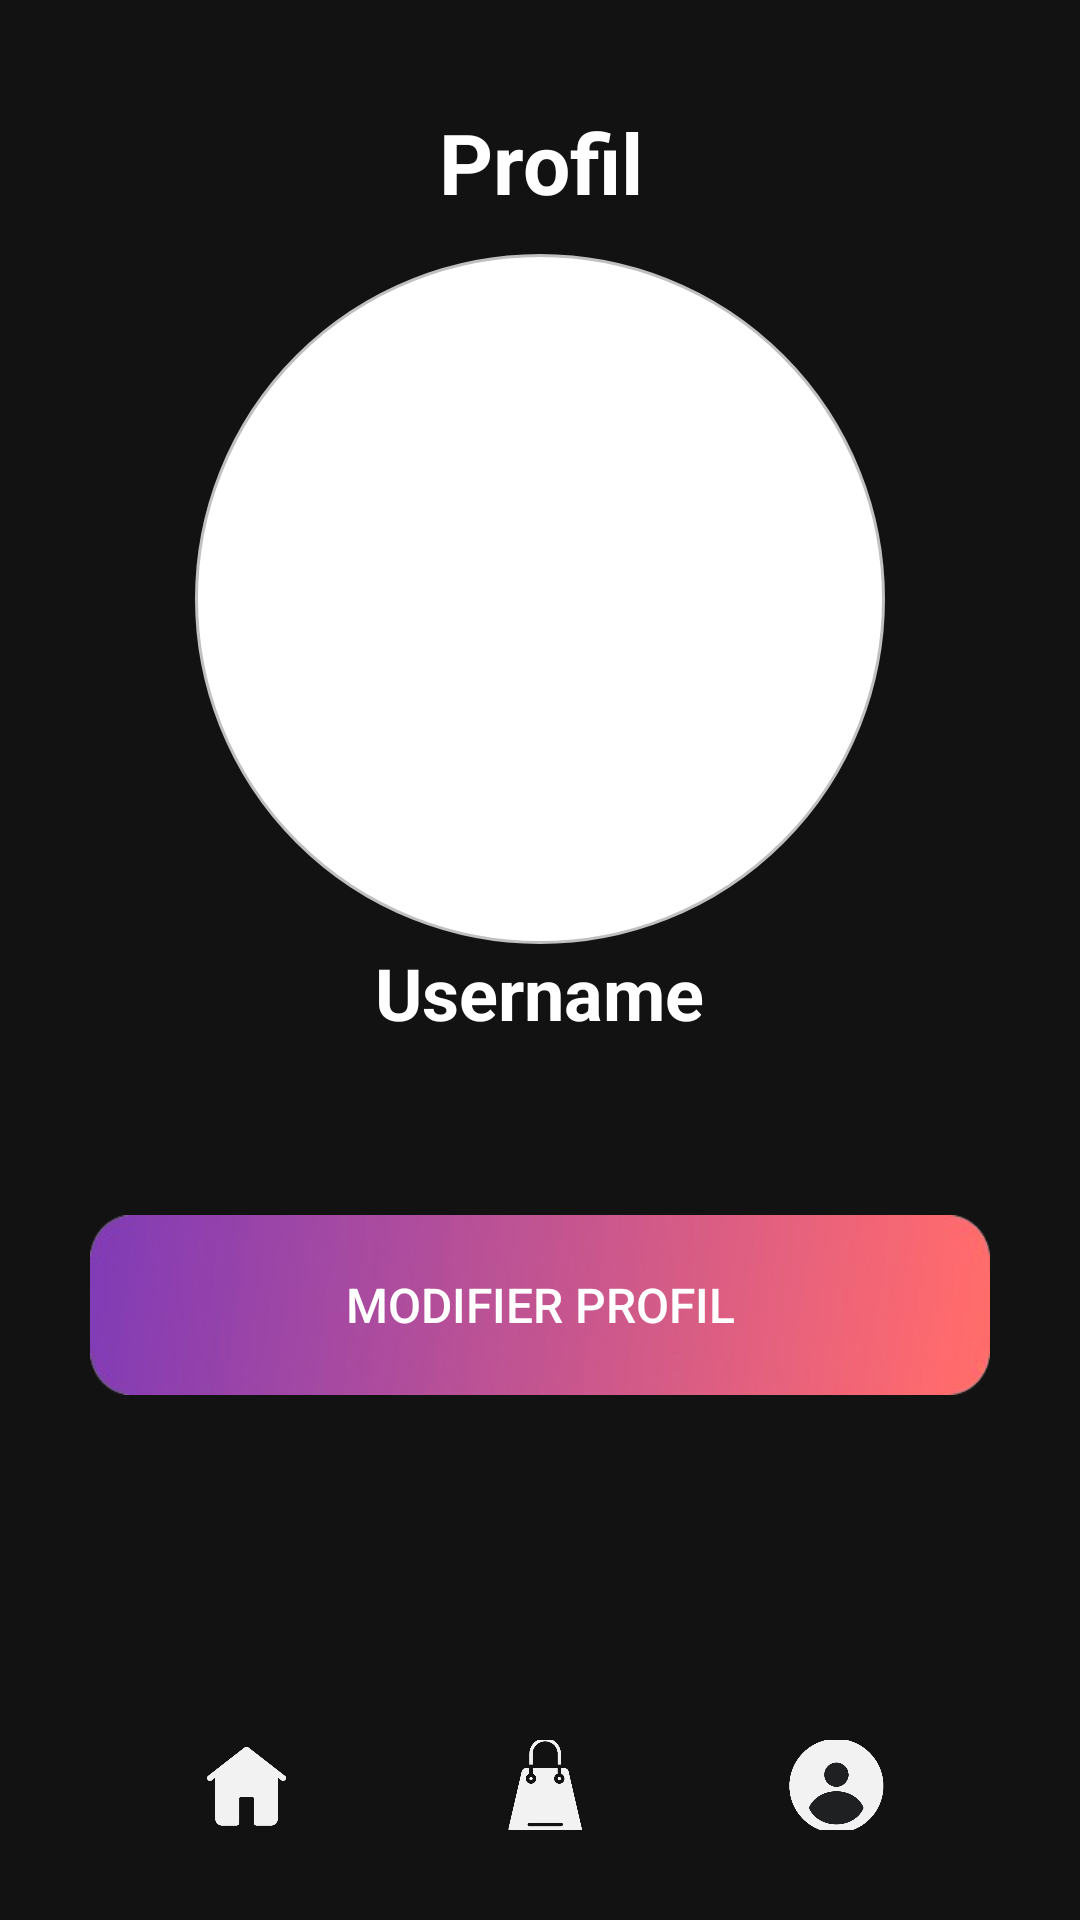

Screen size 1080*1920. Icon name, then its center in pixels as point (x, y):
store: point (545, 1785)
